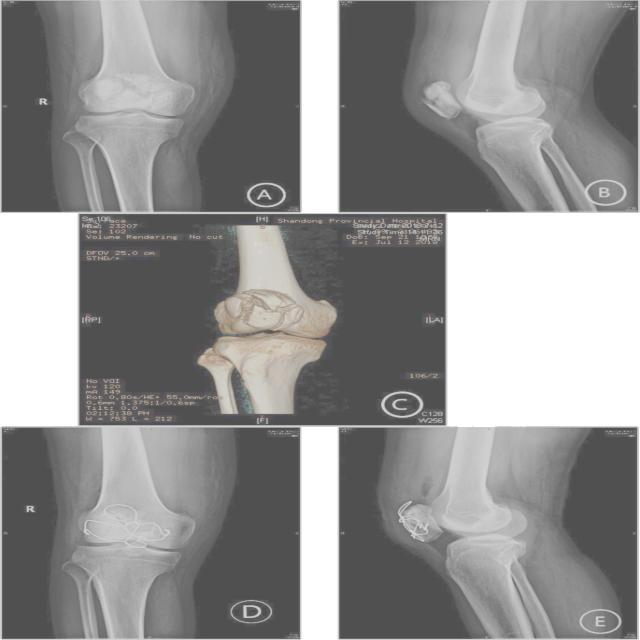Comminuted Fracture: (422, 74, 467, 132)
